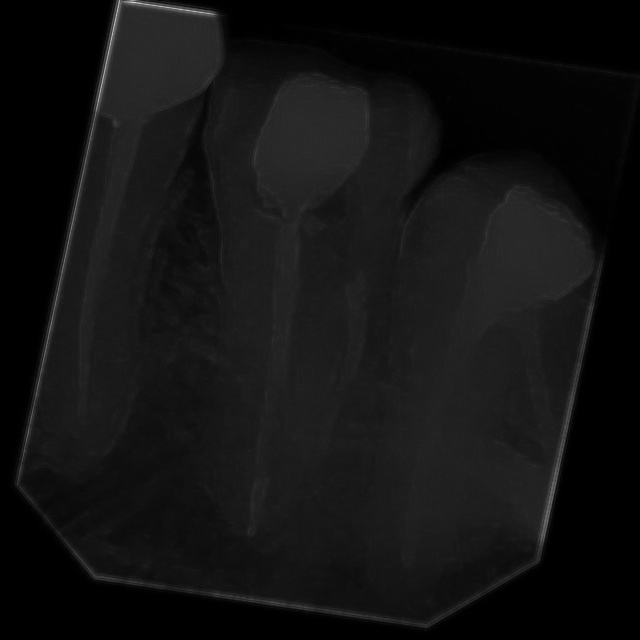Class 1- complete endodontic treatment: (94, 21, 454, 592)
